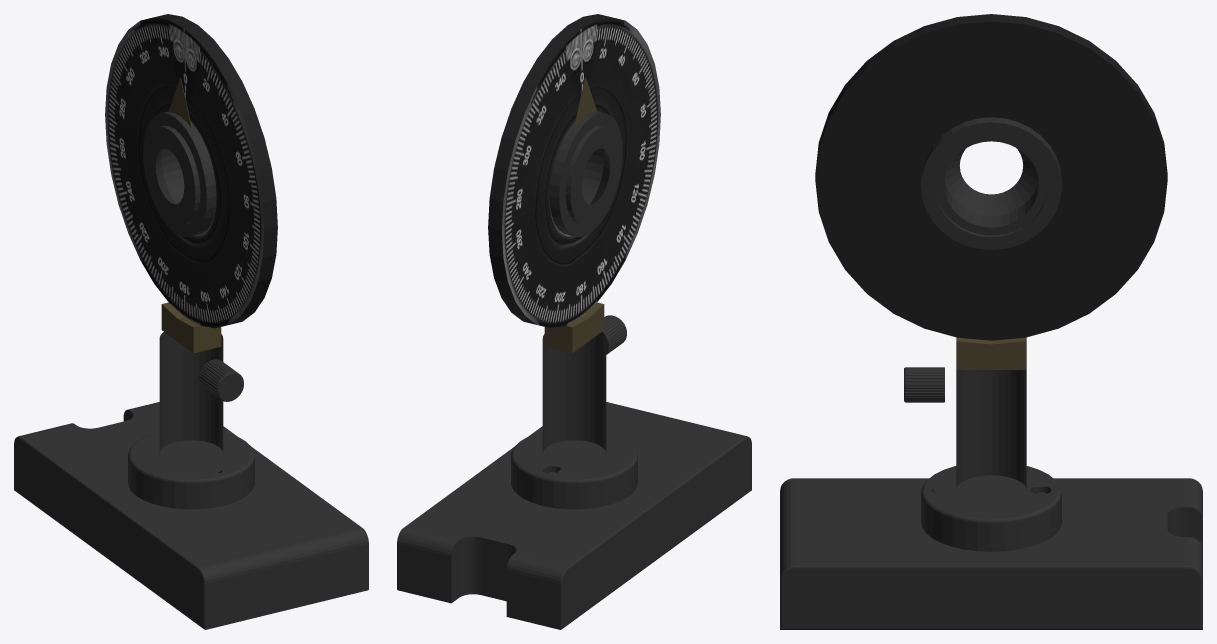
The model's file is 新偏振镜.fbx.
The picture shows the model from 3 angles, left to right: view 1: azimuth 30°, elevation 25°; view 2: azimuth 150°, elevation 25°; view 3: azimuth 270°, elevation 25°; orthographic projection. The views are drawn at different scales.
Visible parts, largest first — view 1: 滑座, 刻度盘, 支架, 旋转座, 盘支架, 大旋钮.001, 指针; view 2: 滑座, 刻度盘, 支架, 旋转座, 盘支架, 大旋钮.001, 指针; view 3: 刻度盘, 滑座, 支架, 旋转座, 盘支架, 大旋钮.001.
Part boxes in pixels (x1,y1,x2,y2): 滑座: (14, 402, 368, 629); 刻度盘: (105, 14, 277, 328); 支架: (128, 332, 254, 509); 旋转座: (143, 111, 216, 237); 盘支架: (161, 302, 221, 353); 大旋钮.001: (199, 359, 243, 401); 指针: (169, 78, 191, 127); 滑座: (397, 402, 751, 629); 刻度盘: (488, 14, 660, 328); 支架: (511, 332, 637, 509); 旋转座: (549, 111, 622, 237); 盘支架: (544, 302, 604, 353); 大旋钮.001: (602, 315, 626, 354); 指针: (574, 78, 596, 127); 刻度盘: (815, 14, 1167, 340); 滑座: (780, 478, 1202, 629); 支架: (921, 370, 1061, 551); 旋转座: (921, 117, 1061, 249); 盘支架: (956, 337, 1026, 369); 大旋钮.001: (904, 367, 944, 402).
Bounding box in the file's own units: 60 × 178 × 120.
Materials: 4 (1 with a texture image).
